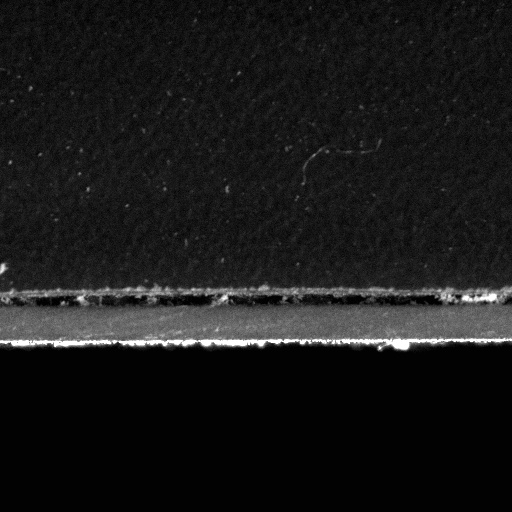jiaofeng: (0, 288, 446, 312)
